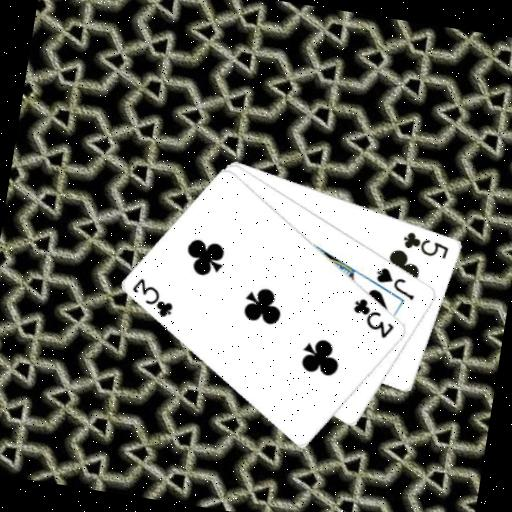3C: (346, 293, 400, 341), (125, 272, 179, 320)
5C: (399, 227, 453, 261)
JS: (369, 262, 420, 302)
